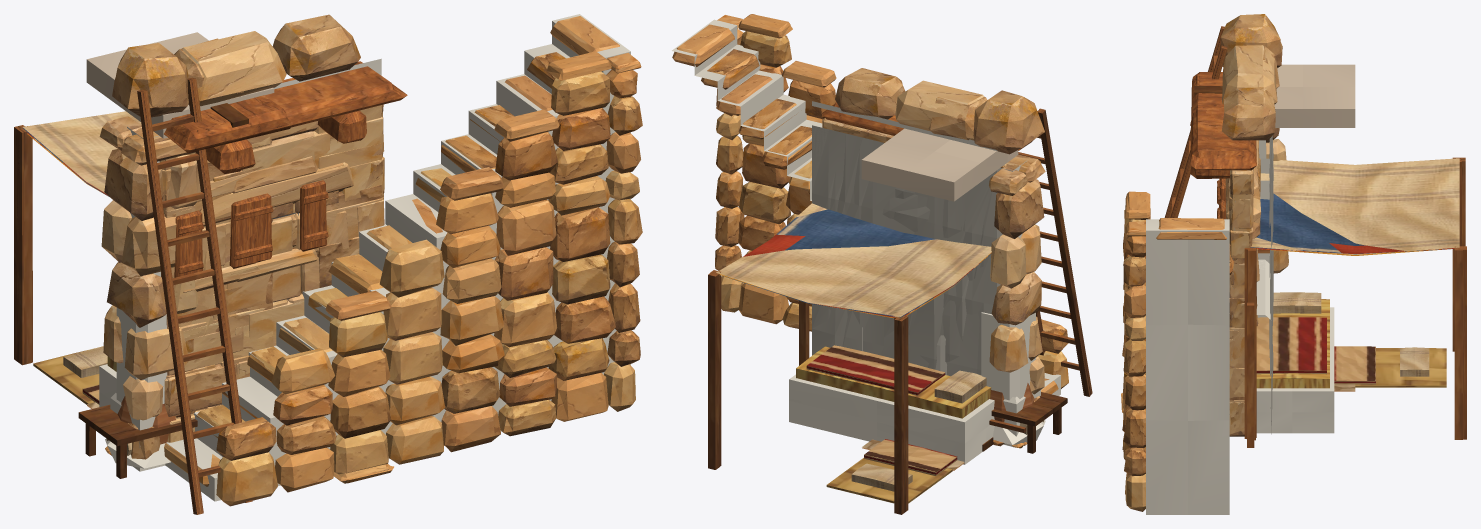
The model's file is casas_kit.glb.
The picture shows the model from 3 angles, left to right: view 1: azimuth 30°, elevation 25°; view 2: azimuth 150°, elevation 25°; view 3: azimuth 270°, elevation 25°; orthographic projection. The views are drawn at different scales.
Parts seen in each view (by area): view 1: Escada_Externa, Cunhal, Mureta_2, Escada_Mao, ParedePedra_2, ParedePedra_Porta, ParedePedra_Janela_2, Toldo, Parede_Janela_2, Mureta_1, Pilar_Mureta, ParedePedra_Janela_1 (+12 smaller); view 2: Escada_Externa, Banco_Cama, Toldo, Cunhal, Laje_1, Mureta_2, Toldo_Azul, ParedePedra_Janela_2, Cama_Esteira, Escada_Mao, Parede_1, Toldo_Ocre (+15 smaller); view 3: Escada_Externa, Toldo, Banco_Cama, Mureta_2, Laje_1, Cama_Esteira, Toldo_Azul, Toldo_Vermelho, ParedePedra_Porta, ParedePedra_2, Pilar_Mureta, ParedePedra_Janela_2 (+8 smaller).
Part boxes in pixels (x1,y1,x2,y2): Escada_Externa: (164,14,642,506); Cunhal: (99,116,200,459); Mureta_2: (164,14,407,173); Escada_Mao: (137,77,252,514); ParedePedra_2: (161,105,384,419); ParedePedra_Porta: (161,104,389,483); ParedePedra_Janela_2: (161,105,383,380); Toldo: (19,111,141,364); Parede_Janela_2: (164,157,328,442); Mureta_1: (164,38,291,170); Pilar_Mureta: (112,43,188,117); ParedePedra_Janela_1: (159,136,273,374); Escada_Externa: (672,14,1068,395); Banco_Cama: (789,345,994,464); Toldo: (708,203,991,469); Cunhal: (989,154,1045,401); Laje_1: (861,128,1007,201); Mureta_2: (812,68,1033,150); Toldo_Azul: (710,209,991,511); ParedePedra_Janela_2: (812,124,1002,358); Cama_Esteira: (826,439,957,503); Escada_Mao: (1018,108,1092,396); Parede_1: (909,170,996,369); Toldo_Ocre: (709,252,991,514); Escada_Externa: (1122,191,1234,514); Toldo: (1248,158,1466,439); Banco_Cama: (1256,292,1334,433); Mureta_2: (1190,45,1277,178); Laje_1: (1274,64,1355,127); Cama_Esteira: (1334,346,1446,387); Toldo_Azul: (1248,157,1463,440); Toldo_Vermelho: (1246,159,1462,439); ParedePedra_Porta: (1122,138,1273,436); ParedePedra_2: (1229,168,1272,403); Pilar_Mureta: (1220,14,1282,67); ParedePedra_Janela_2: (1217,137,1273,434).
Size of the model in its own units: 4.24 by 3.5 by 3.31.
Materials: 3 (1 with a texture image).
